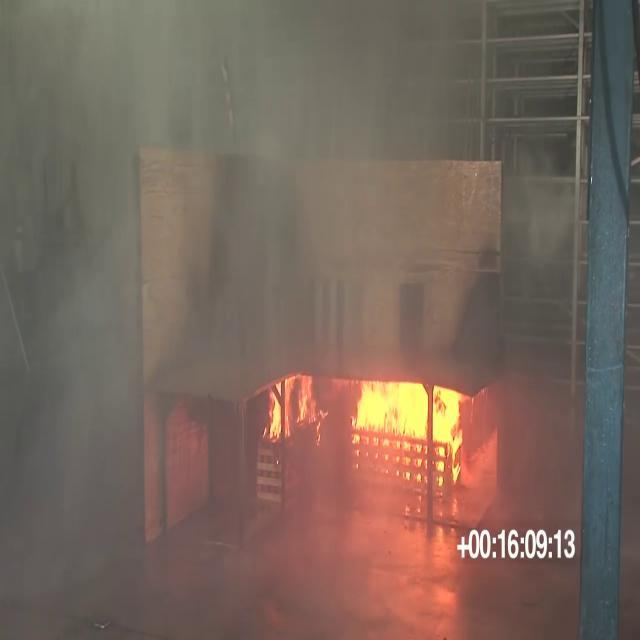Fire: (265, 380, 488, 518)
Smoke: (55, 27, 578, 356), (0, 0, 157, 640), (144, 338, 256, 640)
